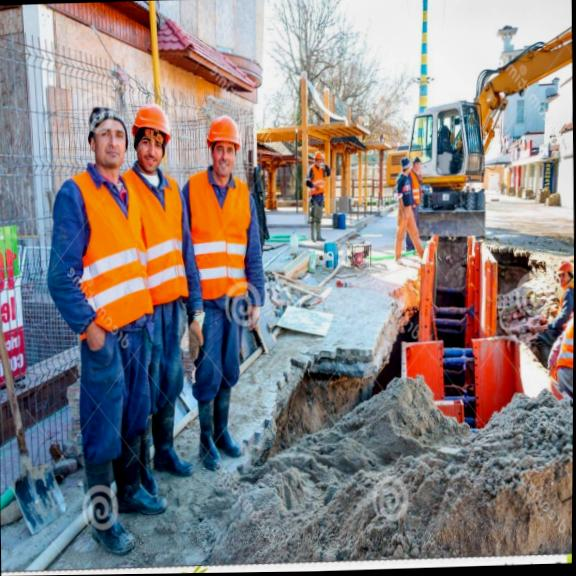safety_vest: (63, 180, 132, 361), (176, 175, 260, 311), (128, 160, 178, 341)
